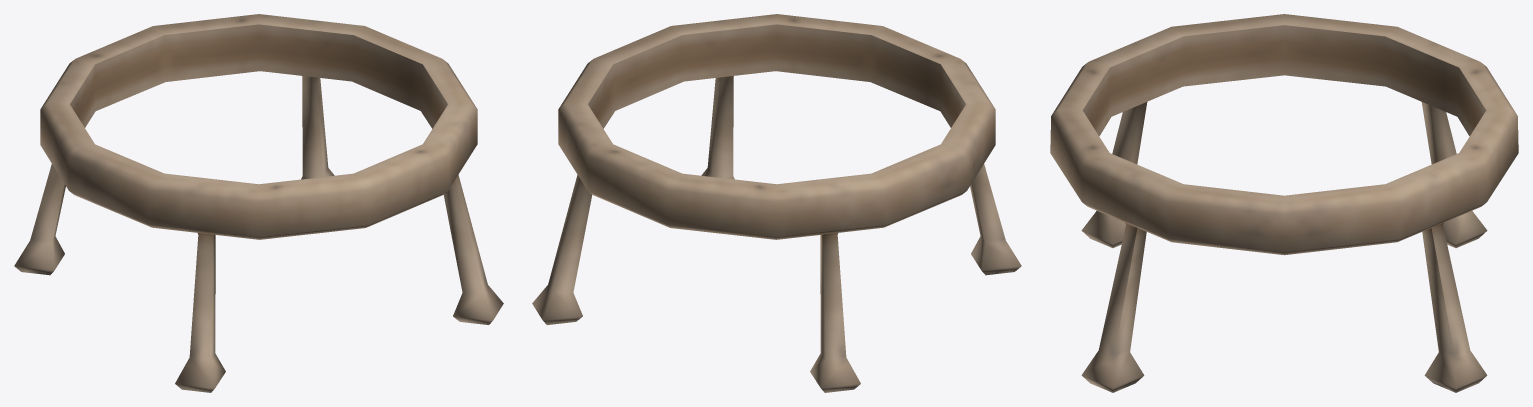
The picture shows the model from 3 angles, left to right: view 1: azimuth 30°, elevation 25°; view 2: azimuth 150°, elevation 25°; view 3: azimuth 270°, elevation 25°; orthographic projection. The views are drawn at different scales.
Parts seen in each view (by area): view 1: submesh_0; view 2: submesh_0; view 3: submesh_0.
Part boxes in pixels (x1,y1,x2,y2): submesh_0: (14, 14, 503, 392); submesh_0: (532, 14, 1021, 392); submesh_0: (1050, 14, 1518, 392).
Bounding box in the file's own units: 0.17 × 0.0807 × 0.17.
Materials: 1 (1 with a texture image).
